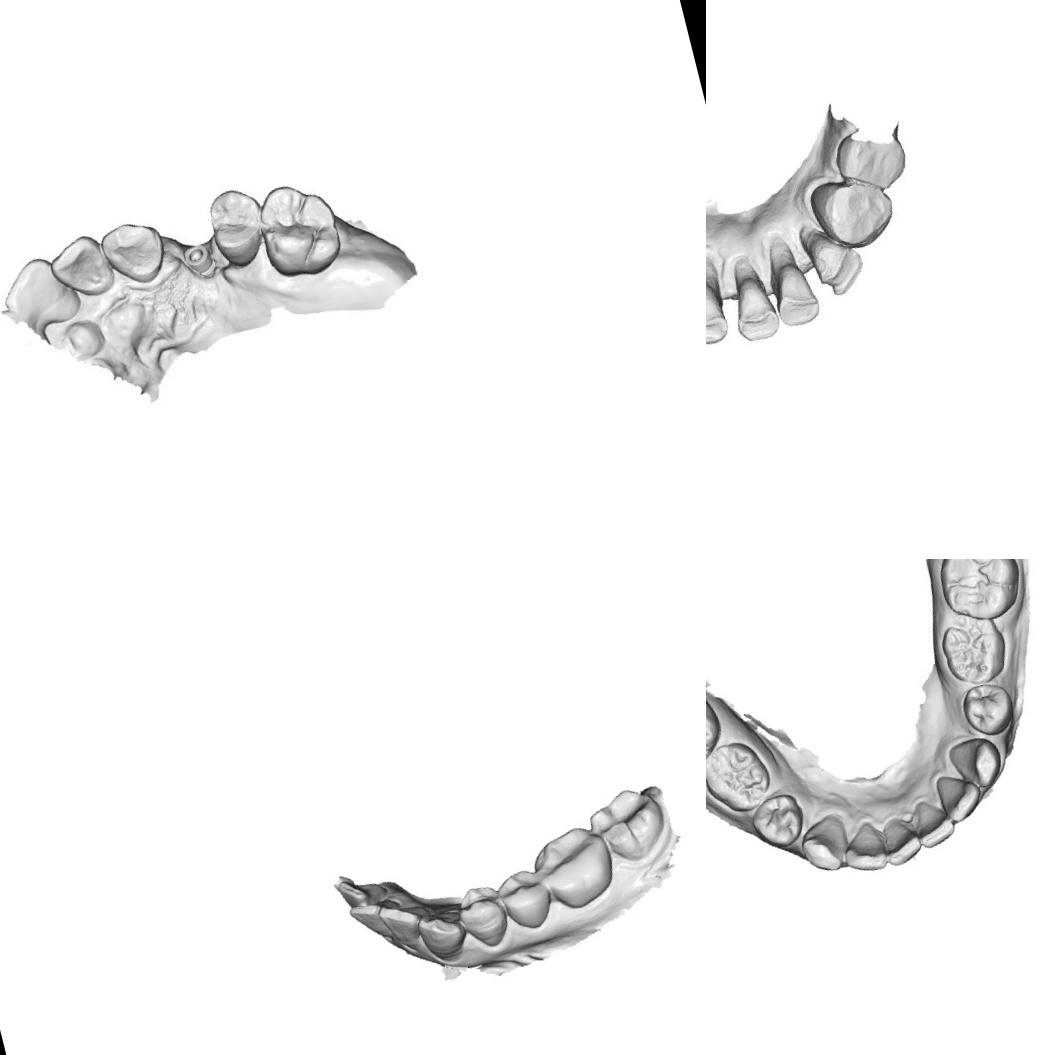canine: (96, 214, 173, 293), (794, 810, 856, 878), (943, 731, 1007, 794), (412, 904, 471, 967)
crown: (807, 167, 901, 256)
implant: (179, 239, 216, 279)
incisor: (0, 248, 85, 335), (759, 230, 826, 328), (42, 229, 120, 306), (796, 214, 866, 297), (724, 252, 786, 340), (834, 816, 891, 881), (374, 894, 427, 956), (932, 766, 986, 825), (873, 815, 927, 869), (346, 897, 397, 951), (334, 870, 393, 914), (706, 252, 731, 347), (910, 801, 958, 850)
molar: (249, 174, 349, 286), (525, 820, 620, 916), (582, 780, 672, 869), (929, 559, 1031, 630), (831, 109, 914, 196), (934, 606, 1015, 692), (706, 732, 778, 820), (706, 679, 729, 781)
premolar: (201, 182, 272, 269), (493, 863, 558, 935), (744, 786, 810, 856), (452, 880, 512, 953), (955, 676, 1021, 742)
